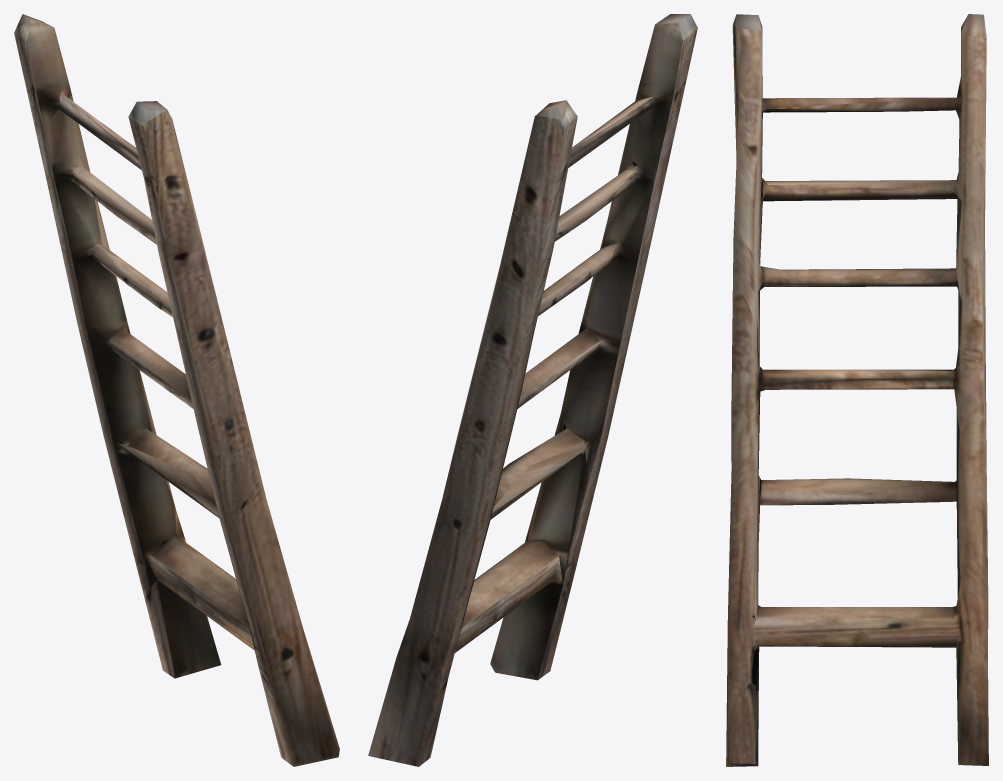
File: ladder.fbx
3 views of the same model, side by side, from view 1: azimuth 30°, elevation 25°; view 2: azimuth 150°, elevation 25°; view 3: azimuth 270°, elevation 25° (orthographic). The views are drawn at different scales.
Parts seen in each view (by area): view 1: tripo_node_5150f40e; view 2: tripo_node_5150f40e; view 3: tripo_node_5150f40e.
Part boxes in pixels (left/top/right/bottom): tripo_node_5150f40e: left=14, top=14, right=339, bottom=766; tripo_node_5150f40e: left=368, top=14, right=697, bottom=766; tripo_node_5150f40e: left=726, top=14, right=988, bottom=766.
Bounding box in the file's own units: 29.25 × 99.08 × 35.36.
1 material, 1 textured.
